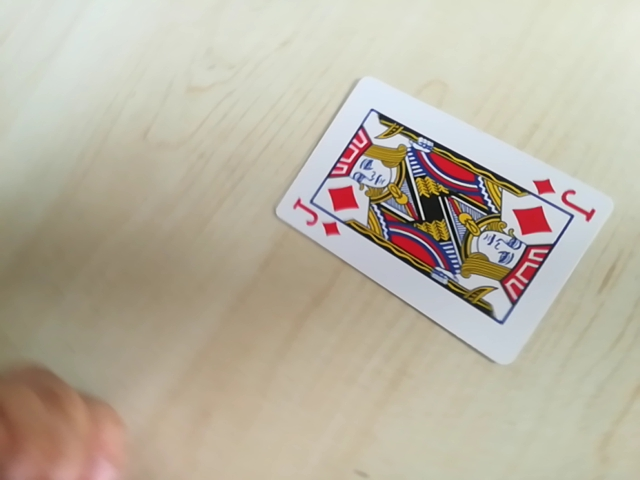fk j: (531, 176, 593, 213), (289, 205, 344, 242)
